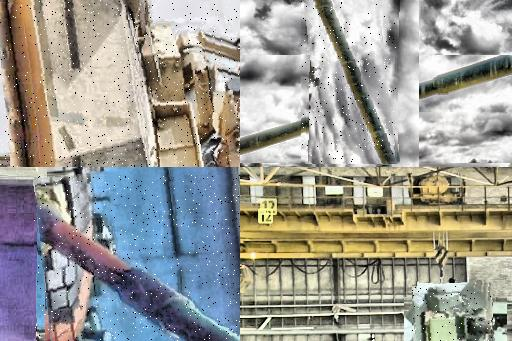tanks: (1, 1, 241, 168), (35, 176, 241, 341), (314, 1, 397, 164), (413, 285, 494, 341), (354, 148, 421, 168)
